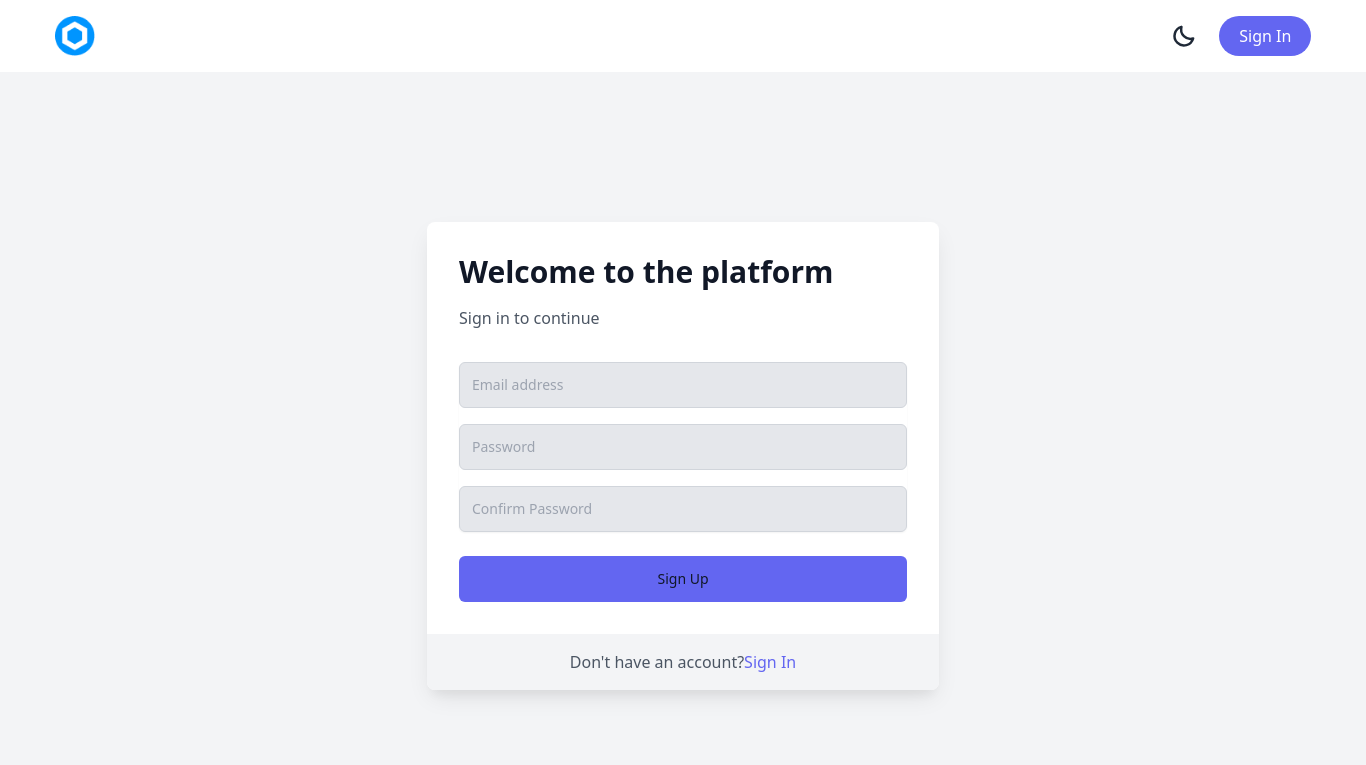
Test case: Login Page › should register successfully and redirect to welcome page
Type "eve.holt@reqres.in" into the field named "email" at {"x": 683, "y": 385}, box 459,362 -> 907,408
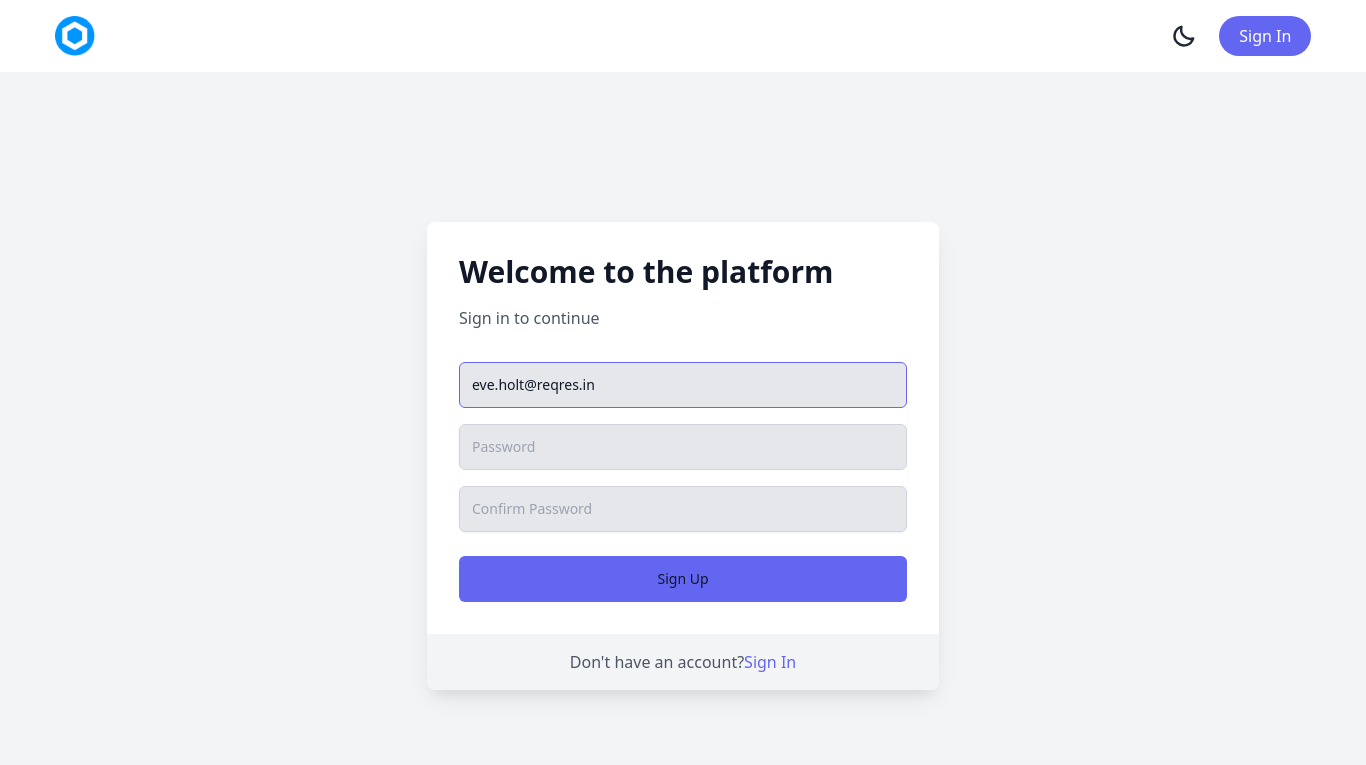
Type "password123" into the password field named "password" at {"x": 683, "y": 447}, box 459,424 -> 907,470
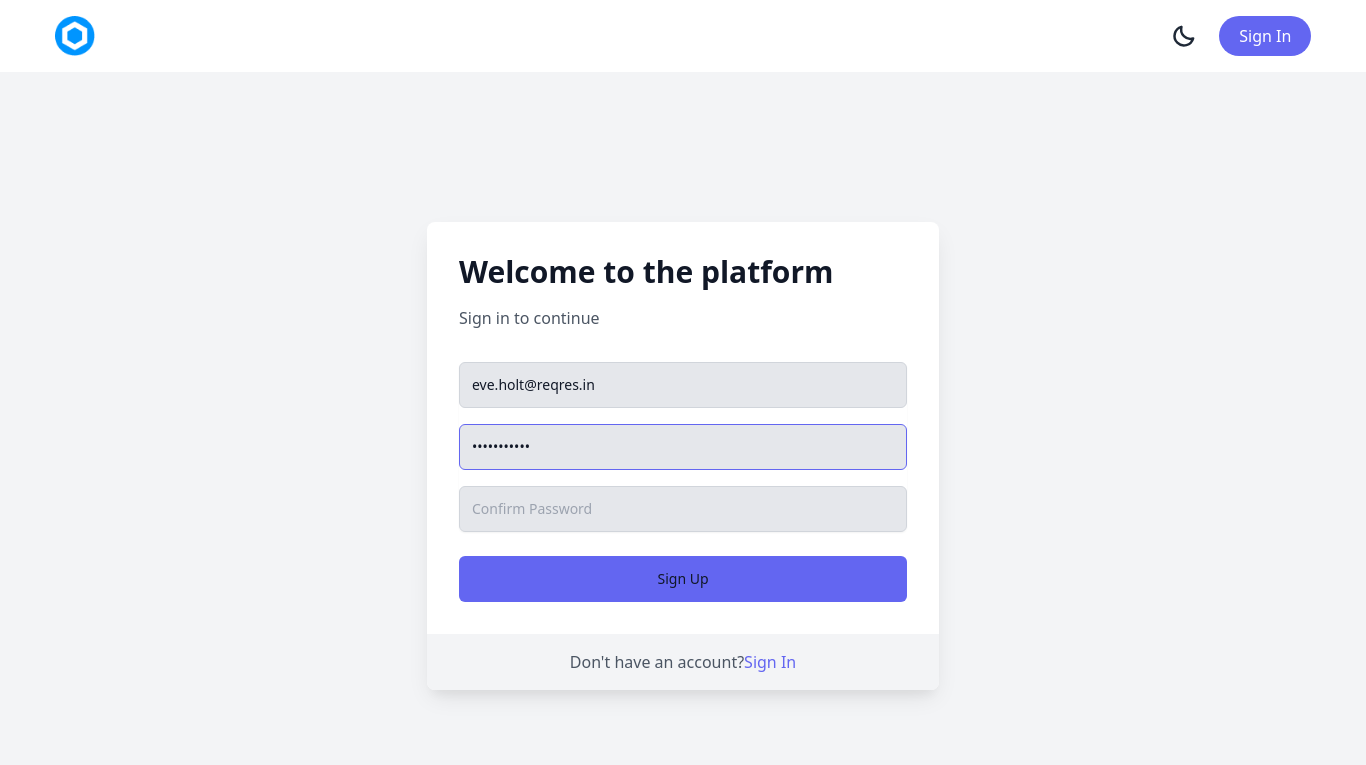
Type "password123" into the password field named "confirmPassword" at {"x": 683, "y": 509}, box 459,486 -> 907,532
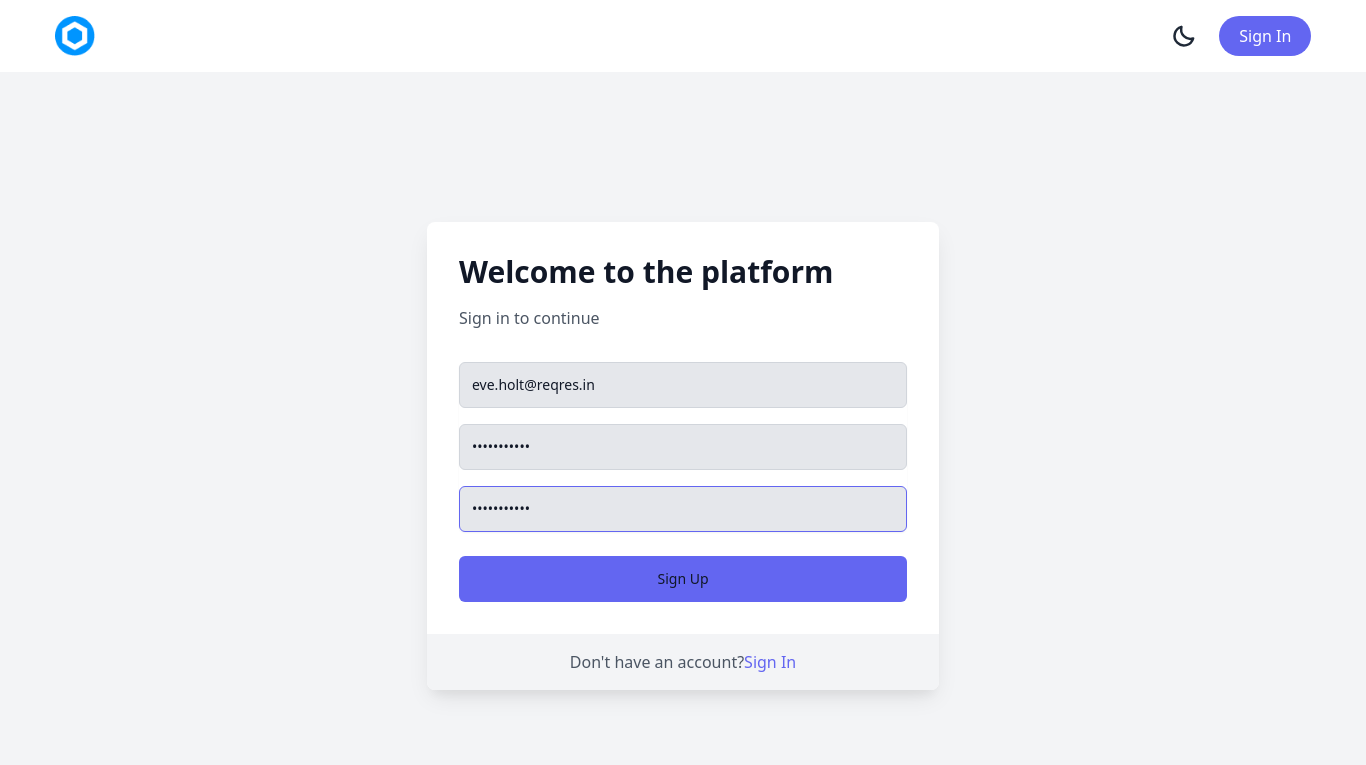
Click the submit button at {"x": 683, "y": 579}, box 459,556 -> 907,602
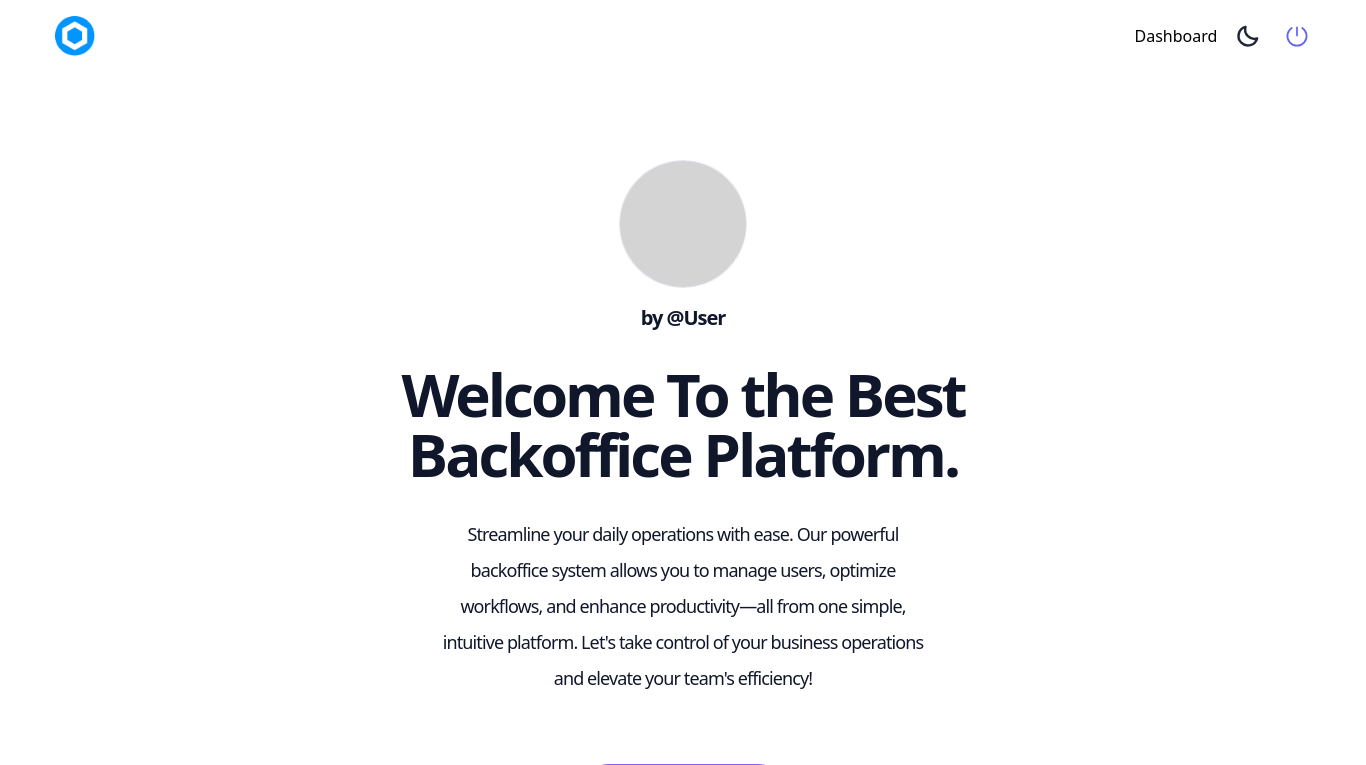
Check: the text "Welcome" is shown, box 401,353 -> 653,435
